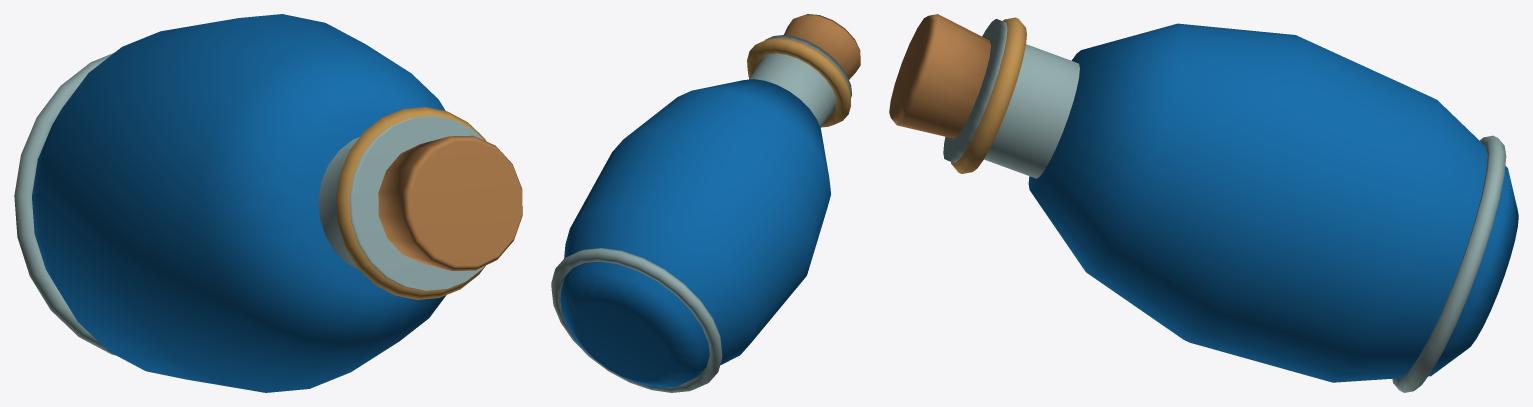
Rendered from mana_m.glb.
3 views of the same model, side by side, from view 1: azimuth 30°, elevation 25°; view 2: azimuth 150°, elevation 25°; view 3: azimuth 270°, elevation 25° (orthographic). The views are drawn at different scales.
Visible parts, largest first — view 1: SM_mana_m; view 2: SM_mana_m; view 3: SM_mana_m.
Part boxes in pixels (x1,y1,x2,y2): SM_mana_m: (14,14,522,392); SM_mana_m: (551,14,860,392); SM_mana_m: (889,14,1518,392).
Size of the model in its own units: 0.243 by 0.2944 by 0.4672.
